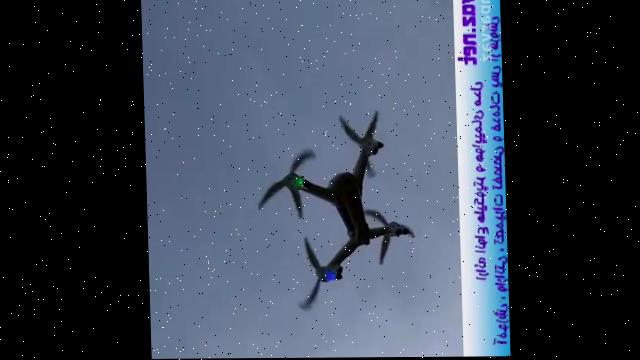drone: (247, 105, 415, 315)
